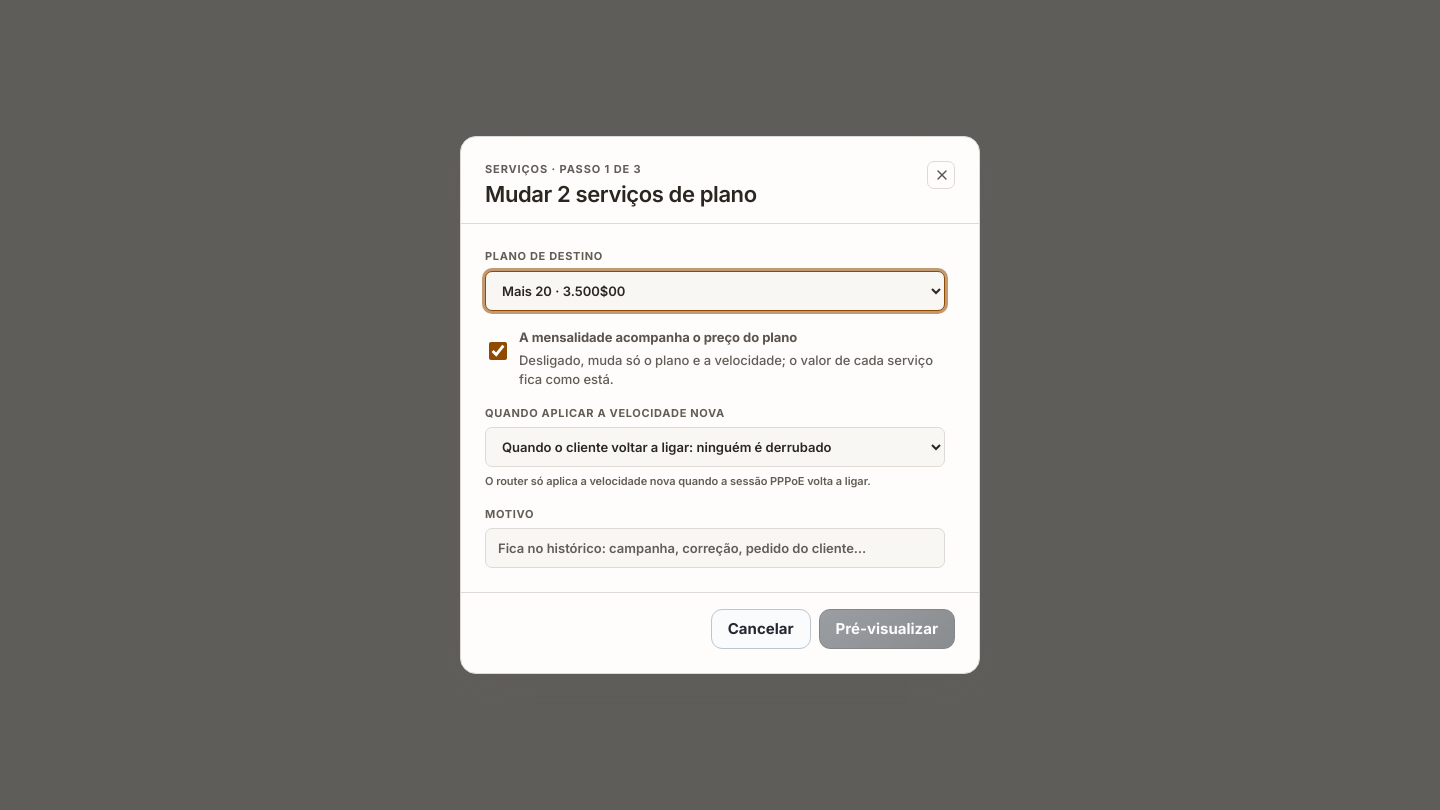
Test: um bloqueio impede a execução e fica à vista
This screenshot has width=1440, height=810.
Select "Mais 20 · 3.500$00" in the dropdown labelled "Plano de destino" at point(715, 291), box x1=485 y1=271 x2=945 y2=311
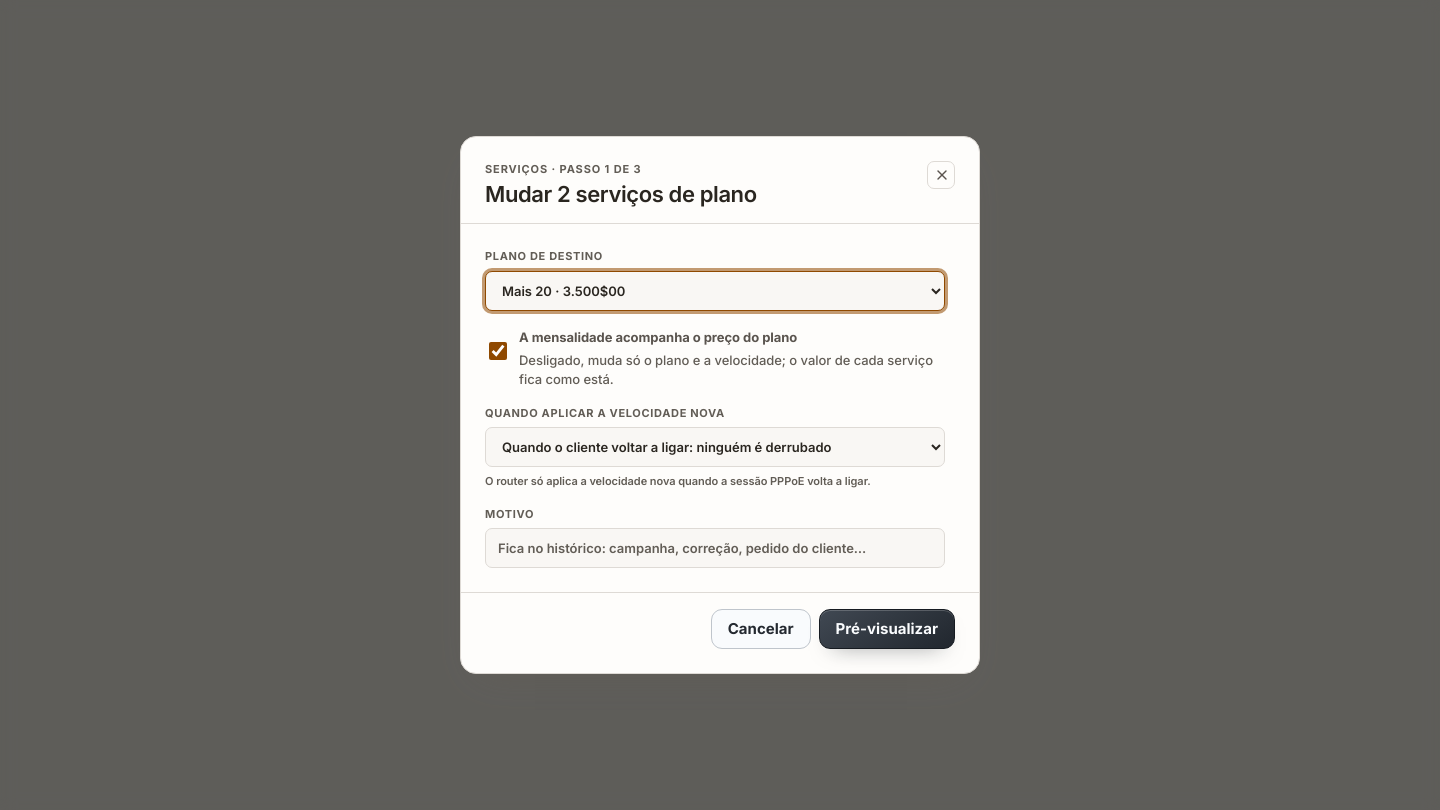
Click the button "Pré-visualizar" at point(887, 629), box x1=818 y1=609 x2=955 y2=649
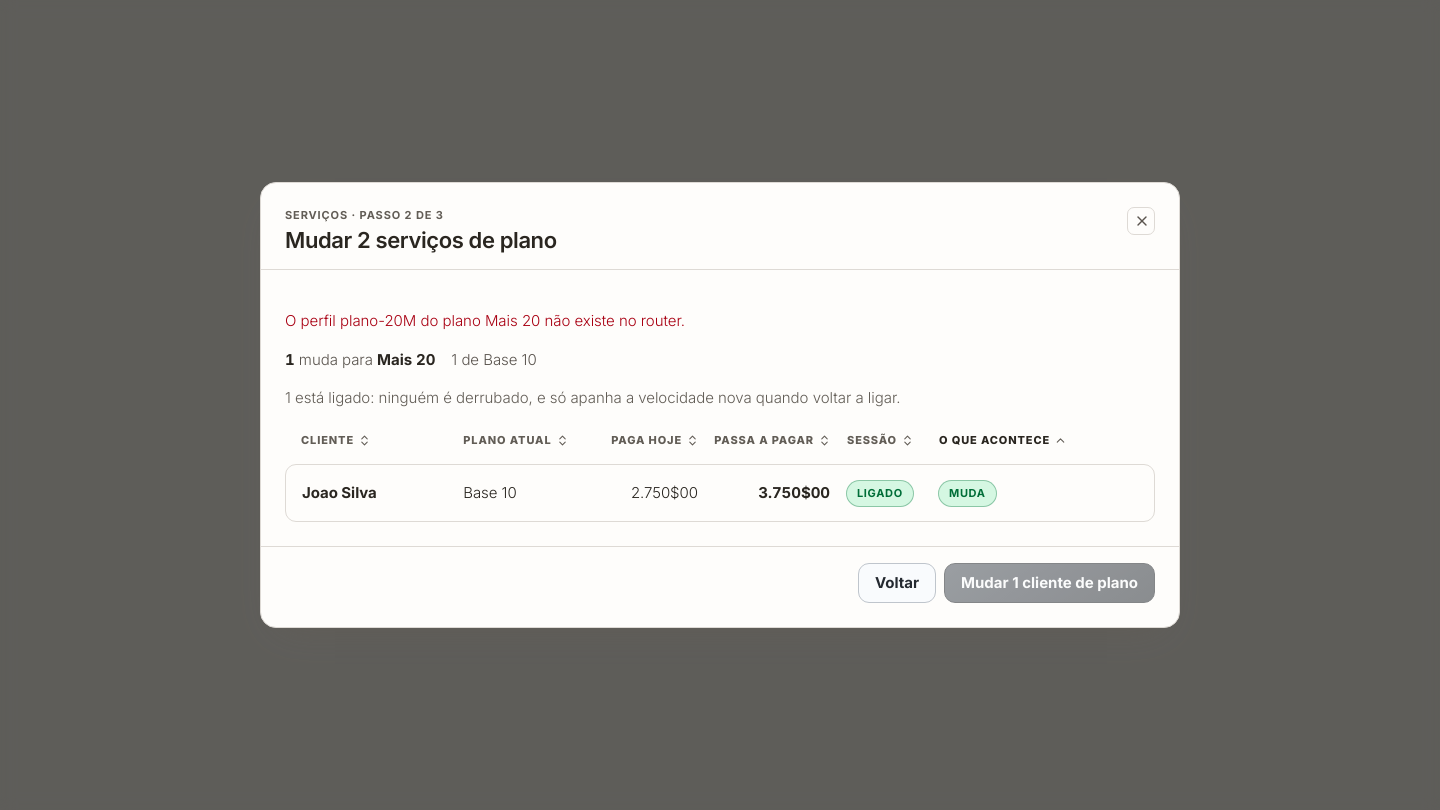
Check: the text "não existe no router" is shown, box x1=285 y1=311 x2=685 y2=330
Check: the button "Mudar 1 cliente de plano" is disabled, box x1=944 y1=563 x2=1155 y2=603
